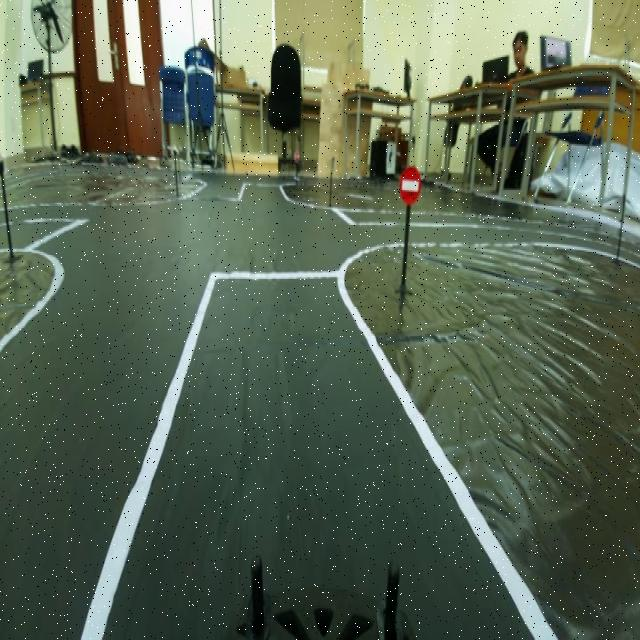no_entry: (397, 161, 424, 210)
